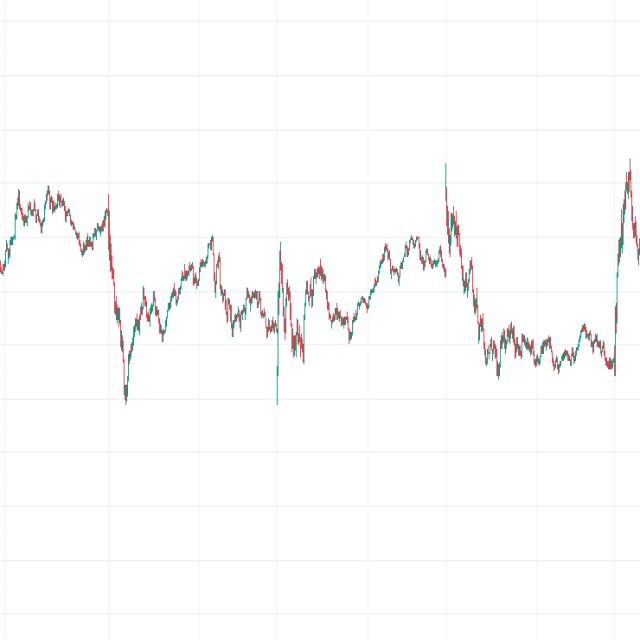Resistance-Emerging: (471, 306, 610, 381)
Rising-Wedge: (111, 225, 226, 424)
